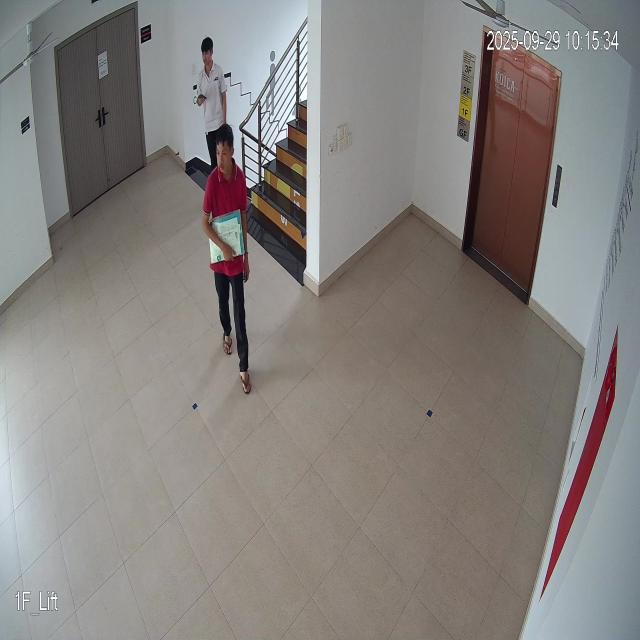face: (213, 124, 234, 178)
